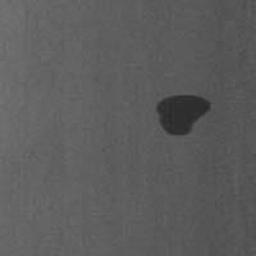Oil spot: (155, 92, 214, 138)
